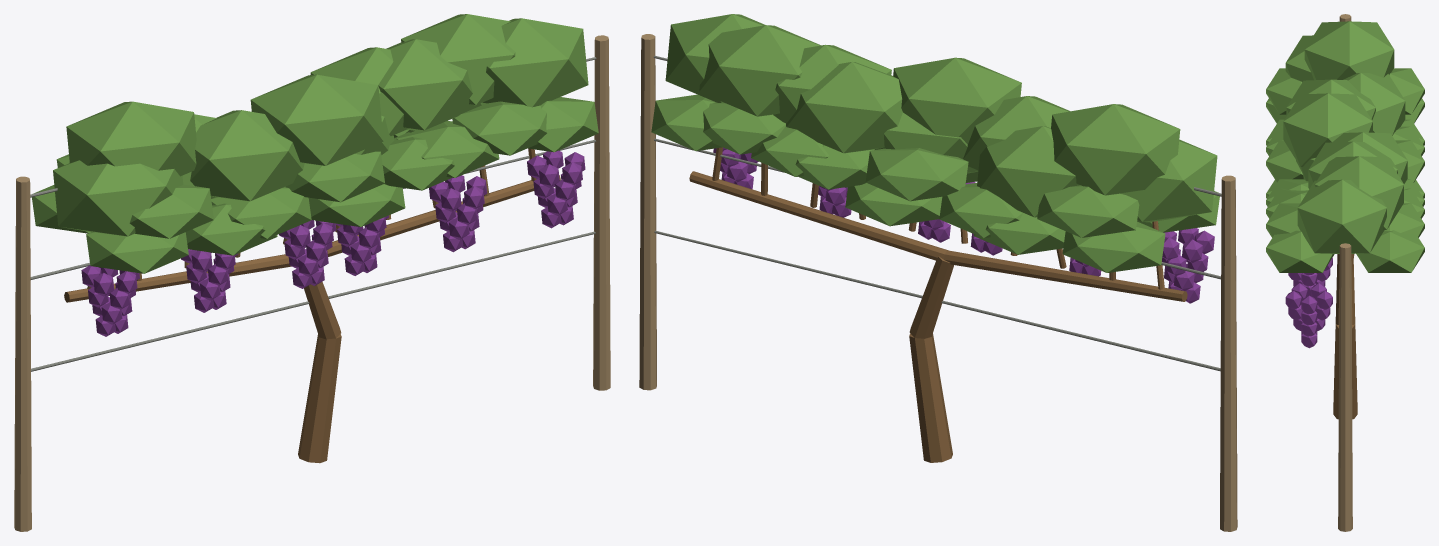
The model's file is grape-1.glb.
3 views of the same model, side by side, from view 1: azimuth 30°, elevation 25°; view 2: azimuth 150°, elevation 25°; view 3: azimuth 270°, elevation 25° (orthographic). The views are drawn at different scales.
Parts seen in each view (by area): view 1: grape-1; view 2: grape-1; view 3: grape-1.
Part boxes in pixels (x1,y1,x2,y2): grape-1: [14, 14, 610, 531]; grape-1: [639, 14, 1237, 531]; grape-1: [1266, 14, 1424, 531].
Bounding box in the file's own units: 3.39 × 2.18 × 0.9653.
